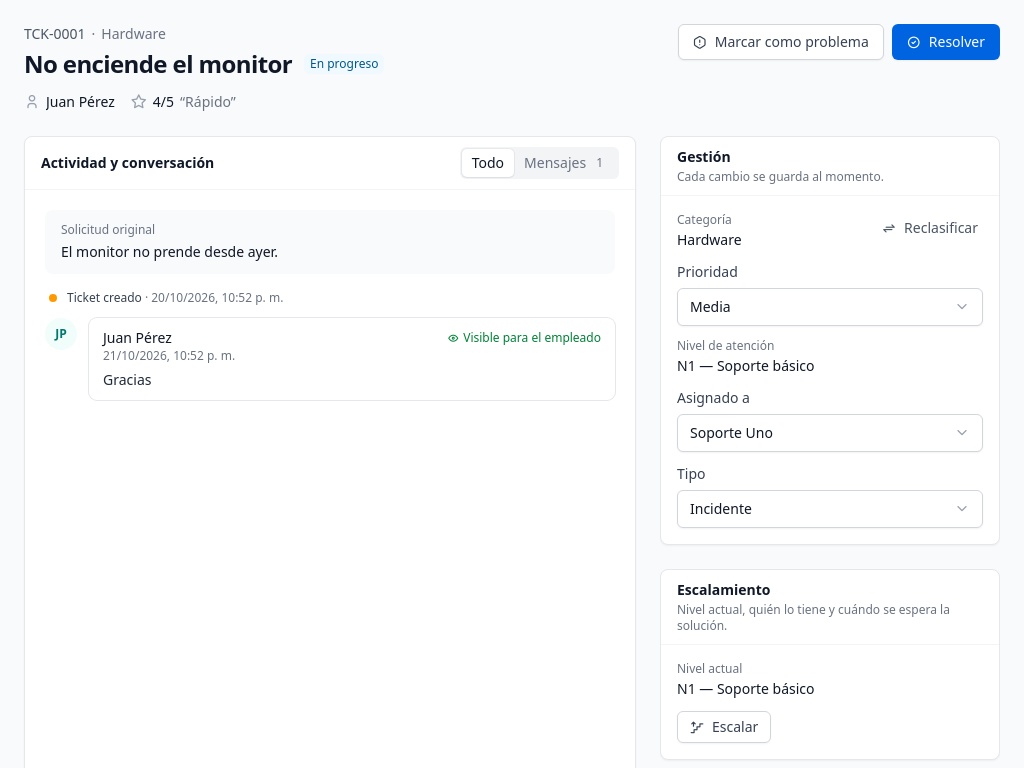
Test: TicketDetalleView.vue — escalamiento por niveles (121) › en atención el nivel es de solo lectura y se escala a N2 con quién lo atiende
Expected: the element showing "Nivel de atención N1 — Soporte básico" is shown, top-left (677, 337), bottom-right (814, 375)
Click the button "Escalar" at (724, 727), box top-left (677, 711), bottom-right (771, 743)
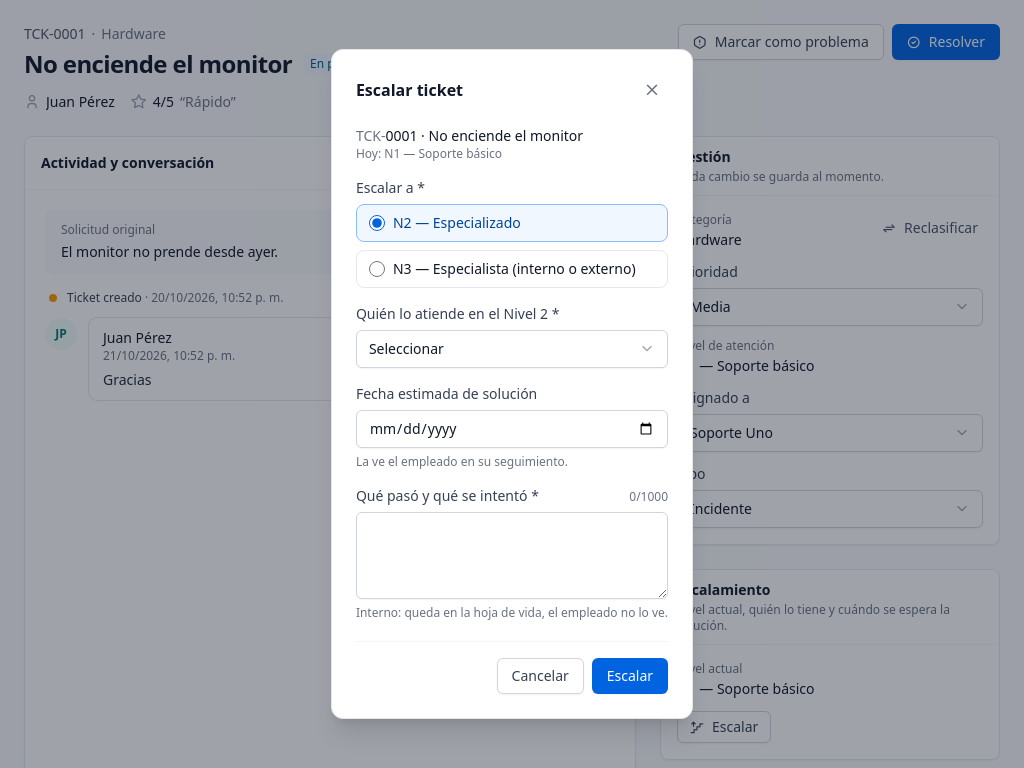
Expected: the dialog shows "Escalar ticket", top-left (356, 79), bottom-right (463, 101)
Expected: the radio button labelled "N2 — Especializado" is checked, top-left (369, 215), bottom-right (385, 231)
Type "Se reinició el router sin éxito" into the text box labelled "Qué pasó y qué se intentó * 0/1000" at (512, 556), box top-left (357, 513), bottom-right (667, 598)
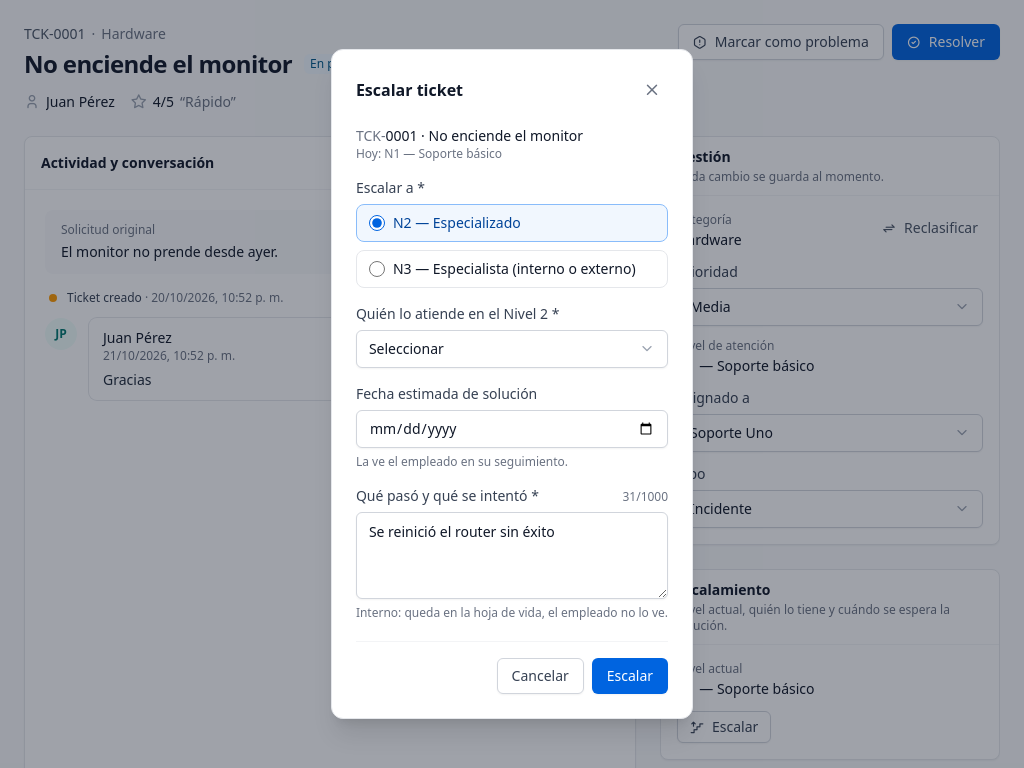
Click the button "Escalar" at (630, 676), box top-left (592, 658), bottom-right (668, 694)
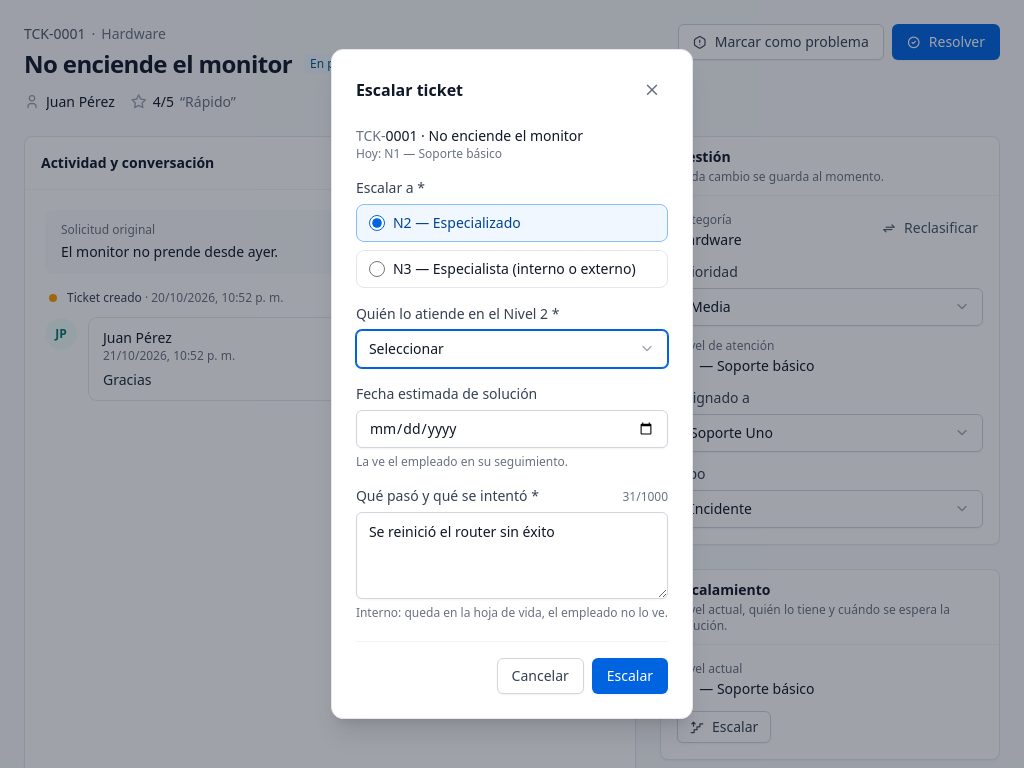
Select "Redes Dos" in the dropdown labelled "Quién lo atiende en el Nivel 2 *" at (512, 349), box top-left (357, 331), bottom-right (667, 367)
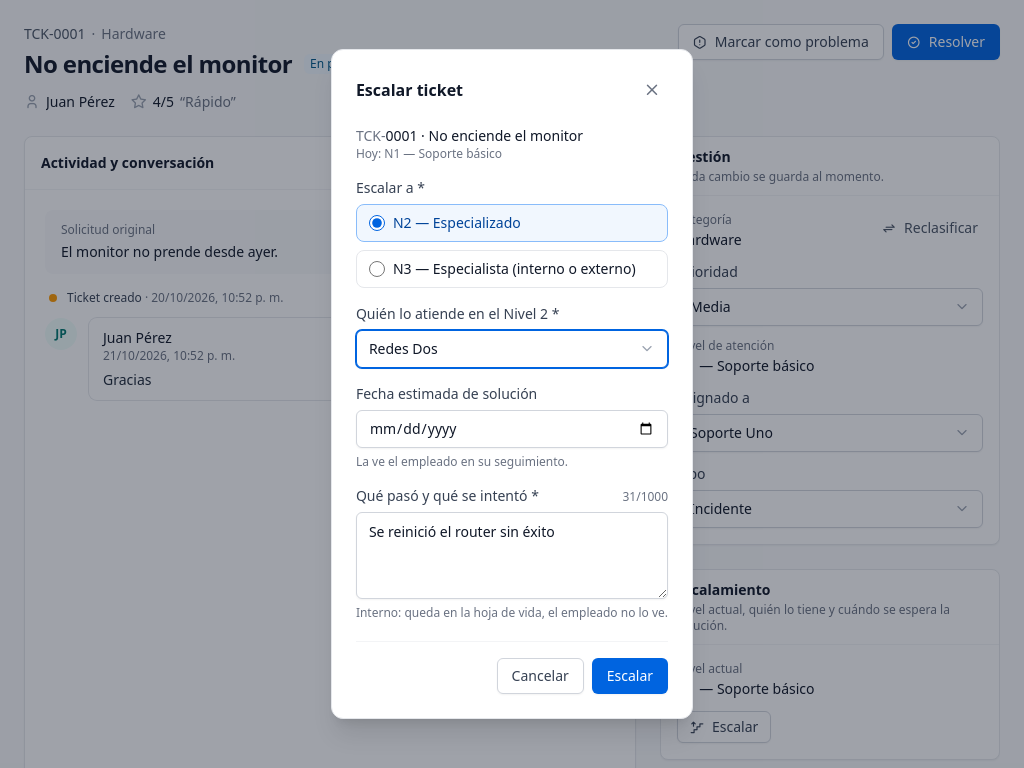
Click the button "Escalar" at (630, 676), box top-left (592, 658), bottom-right (668, 694)
(page scrolled)
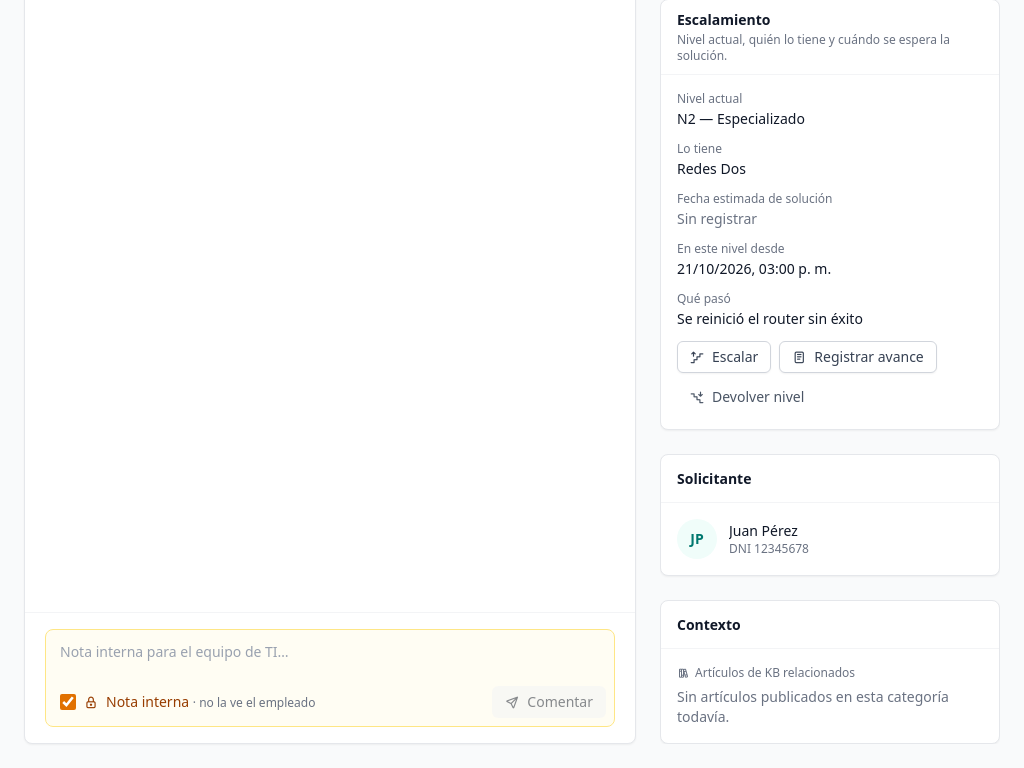
Expected: the button "Devolver nivel" is shown, top-left (677, 381), bottom-right (817, 413)
Expected: the element that starts with "Nivel actual" shows "Redes Dos", top-left (677, 159), bottom-right (746, 178)
Expected: the text "Se reinició el router sin éxito" is shown, top-left (677, 309), bottom-right (863, 328)
